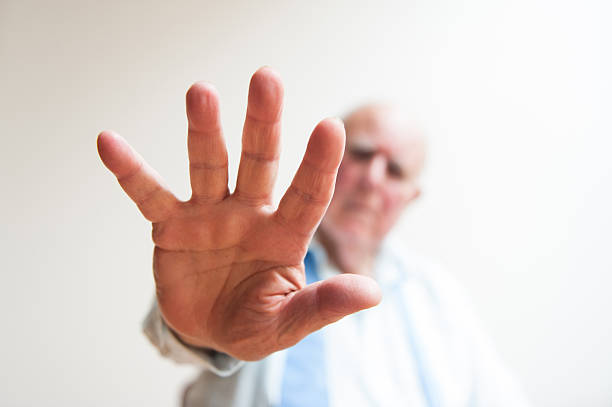hand: (54, 53, 405, 367)
